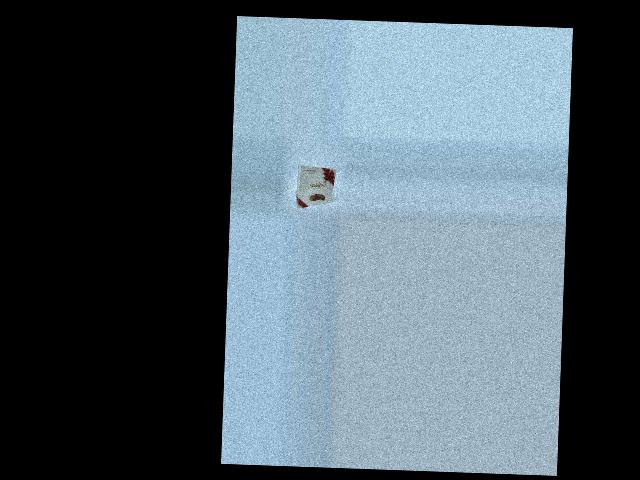chocolate: (287, 165, 337, 211)
